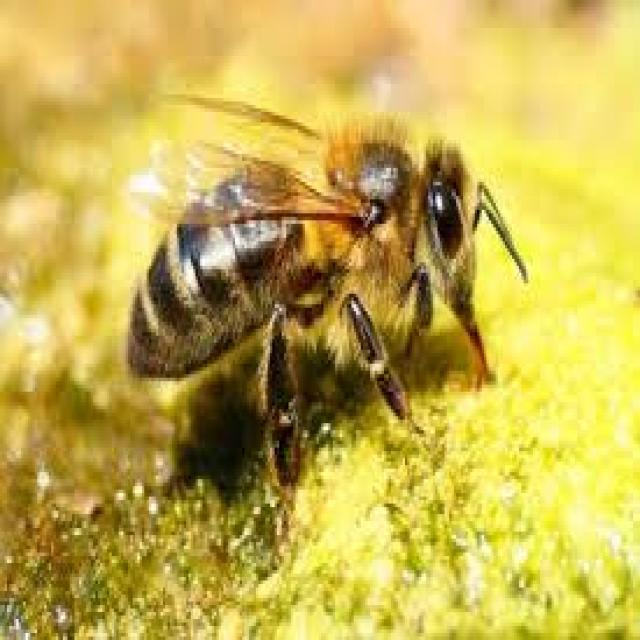Bees: (126, 85, 530, 494)
